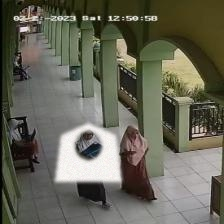Mukena: (54, 123, 122, 181)
